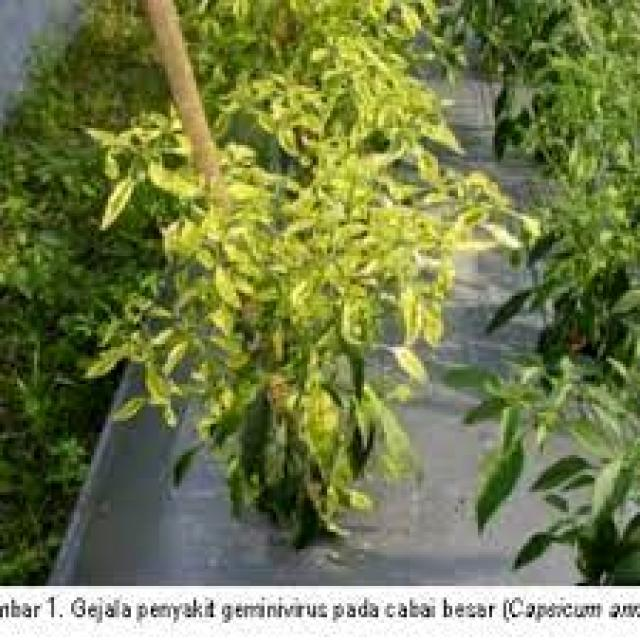yellowish leaf: (80, 0, 546, 390)
